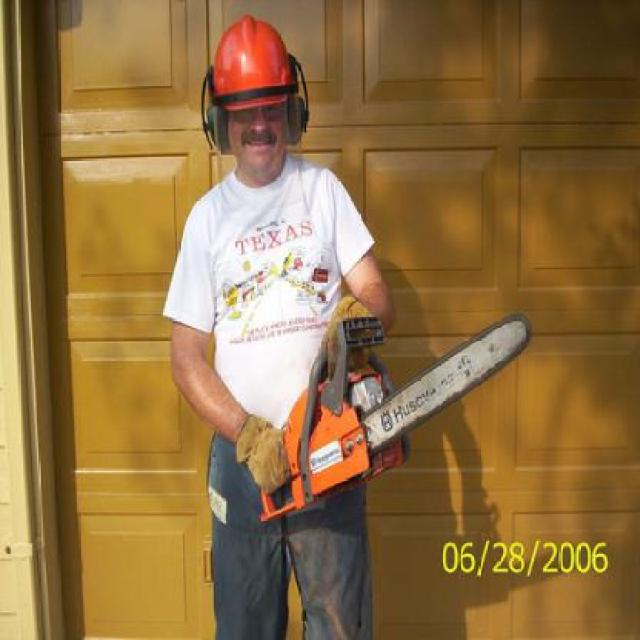Chainsaw: (256, 302, 532, 526)
